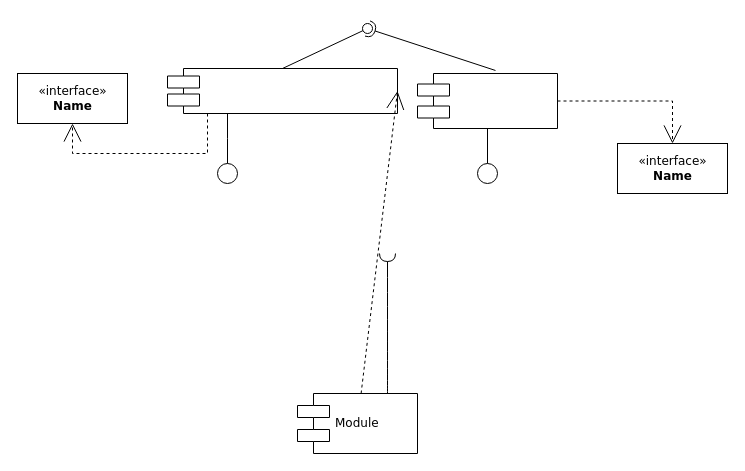
Some shapes in this 745 by 471 pixel diagram are drawn without their labels. Each missing label, with the box of its shape:
Bases de datos: (416, 72, 558, 128)
Módulo de registro de clientes: (166, 68, 398, 114)
